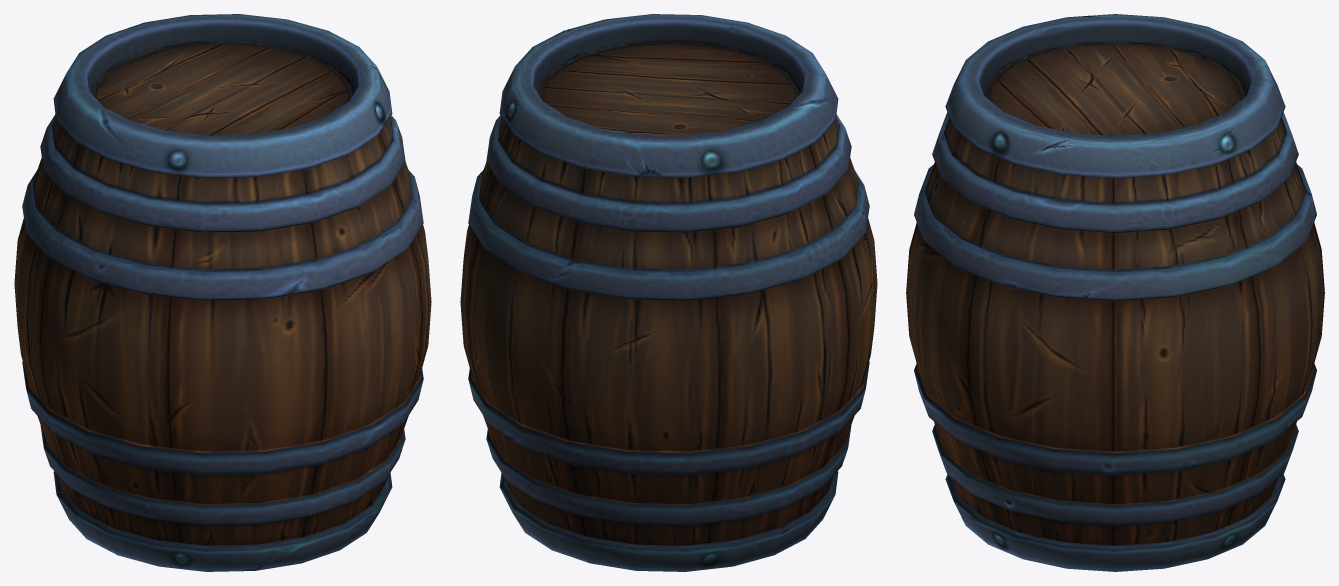
Rendered from Barrel.fbx.
The picture shows the model from 3 angles, left to right: view 1: azimuth 30°, elevation 25°; view 2: azimuth 150°, elevation 25°; view 3: azimuth 270°, elevation 25°; orthographic projection.
Visible parts, largest first — view 1: Barrel; view 2: Barrel; view 3: Barrel.
Part boxes in pixels (box(x1,y1,x2,y2)): Barrel: box(14, 14, 431, 571); Barrel: box(460, 14, 877, 571); Barrel: box(906, 14, 1324, 571).
Size of the model in its own units: 78.06 by 88.47 by 78.06.
